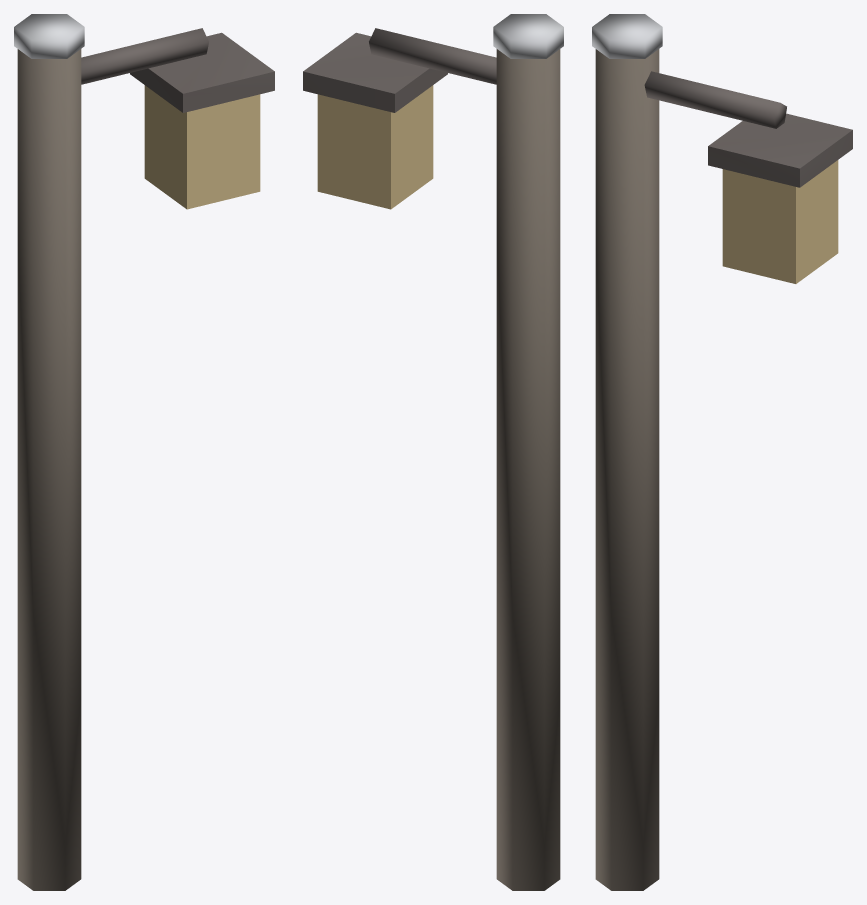
The model's file is lantern_post.glb.
3 renders of one model, left to right at view 1: azimuth 30°, elevation 25°; view 2: azimuth 150°, elevation 25°; view 3: azimuth 330°, elevation 25°, orthographic.
Parts seen in each view (by area): view 1: lantern_post; view 2: lantern_post; view 3: lantern_post.
Boxes of the visible parts, x1,y1,x2,y2 form: lantern_post: (14, 14, 274, 890); lantern_post: (303, 14, 563, 890); lantern_post: (592, 14, 852, 890).
Size of the model in its own units: 0.7366 by 2.66 by 0.3.
